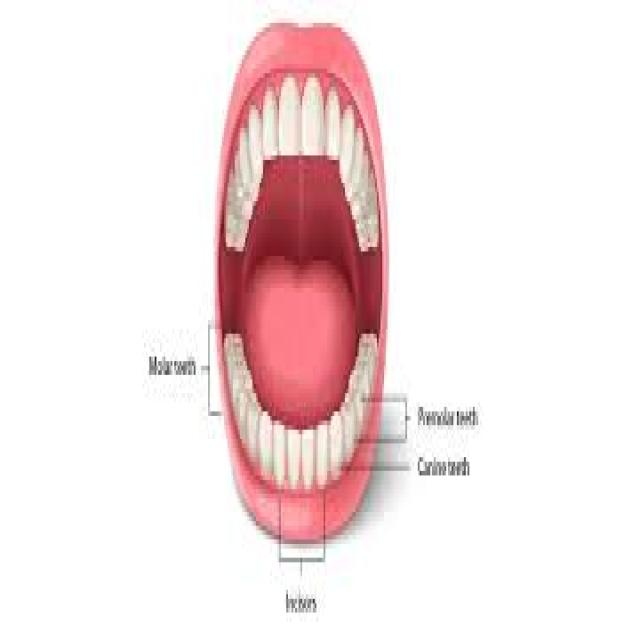tooth: (301, 73, 327, 165), (233, 380, 259, 457), (279, 78, 301, 155), (322, 87, 338, 160), (341, 92, 354, 178), (247, 105, 261, 183), (343, 402, 359, 467), (327, 412, 343, 476), (265, 96, 277, 178), (238, 119, 251, 192), (286, 430, 300, 489), (274, 425, 286, 485), (318, 420, 329, 484), (302, 430, 313, 489), (261, 416, 272, 466)
